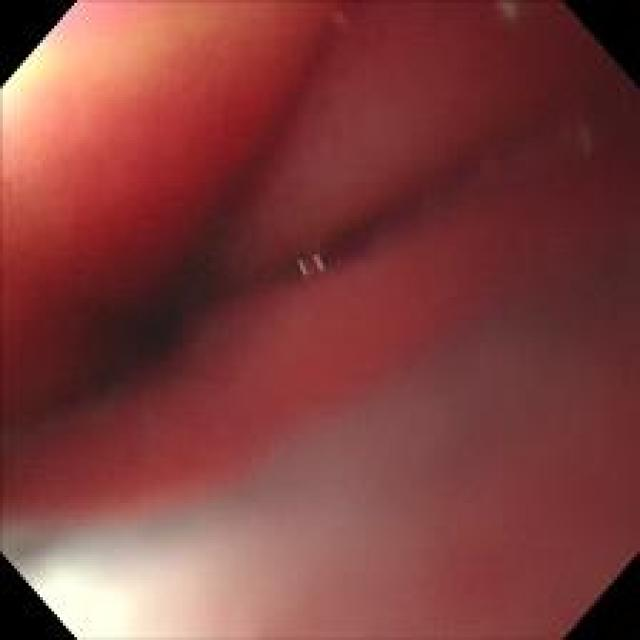color misalignment: (4, 521, 214, 558), (289, 252, 332, 279), (570, 114, 600, 151), (499, 5, 529, 22)
contrast: (25, 196, 259, 434)
saturation: (2, 22, 82, 108), (50, 569, 146, 639)
